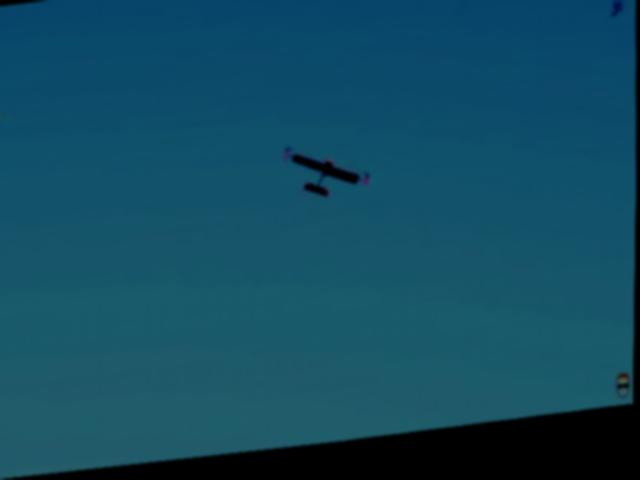uav: (280, 132, 377, 225)
